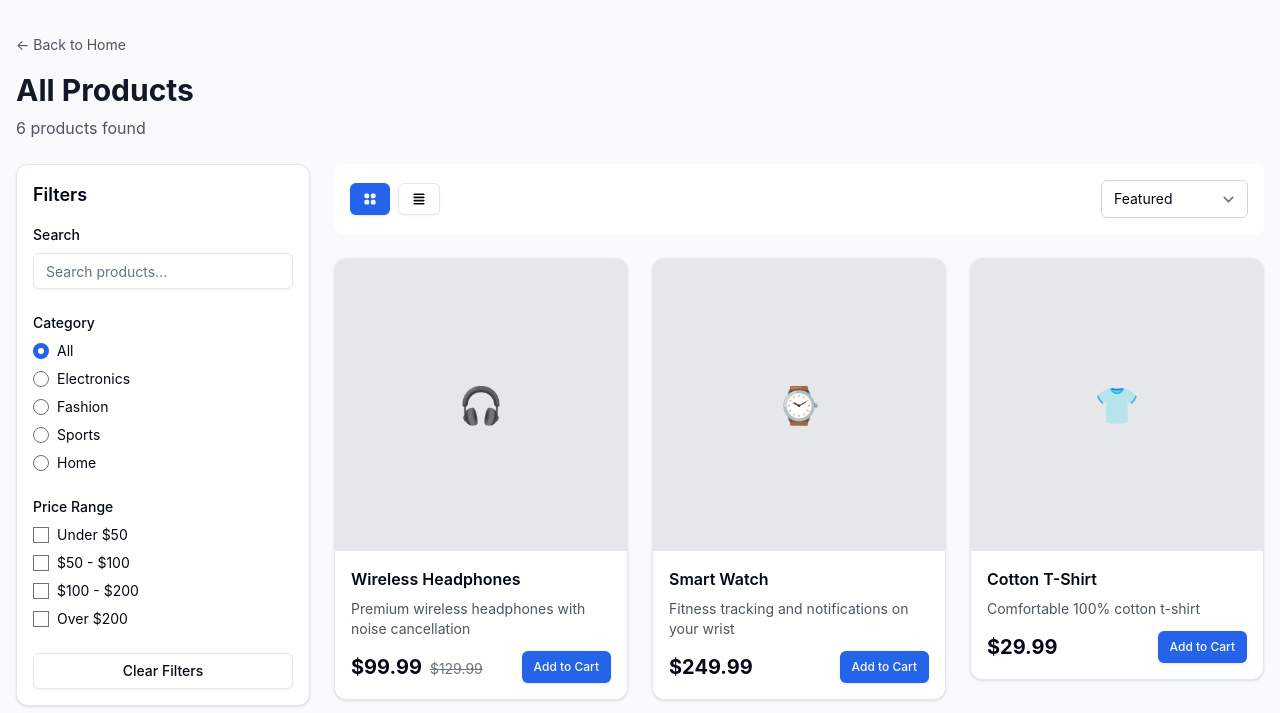
Test: ProductsPage - Category Filter › should update product count after category filter
Click the radio button with test id "category-Fashion" at (41, 407), box [33,399,49,415]
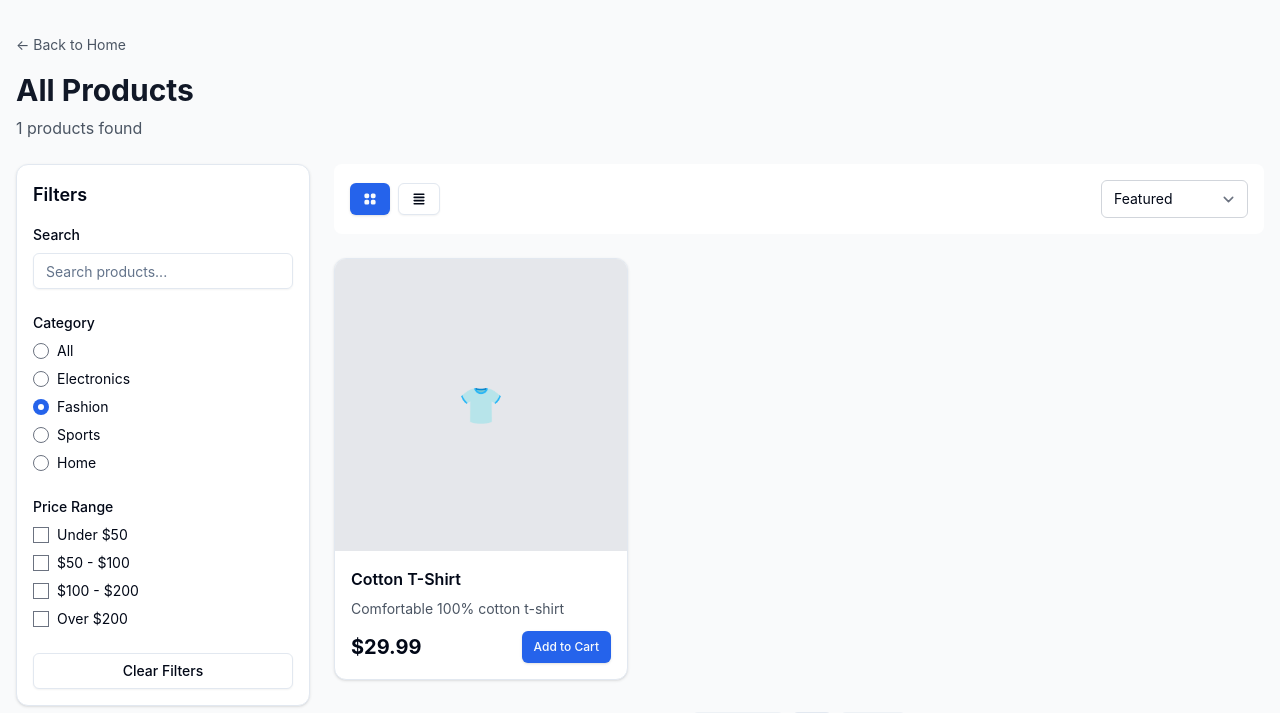
Result: the text "1 products found" is shown at [16,118,142,138]
